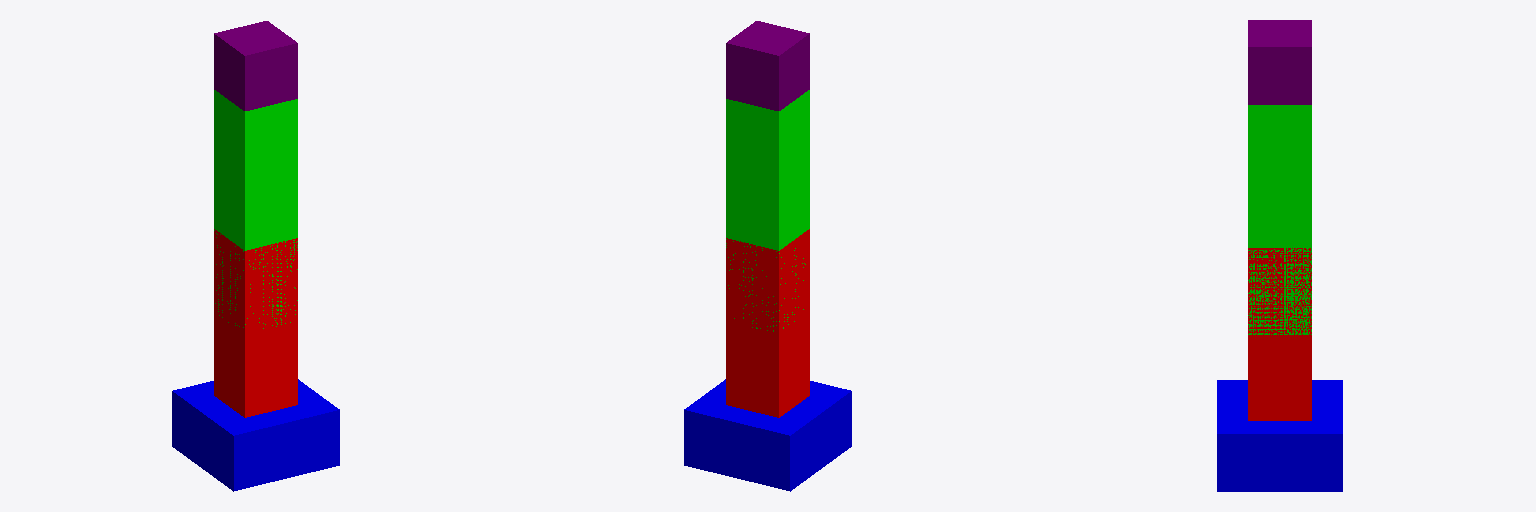
robot.urdf — 3_dof_manipulator:
<?xml version="1.0"?>
<robot name="3_dof_manipulator">

  <material name="blue"><color rgba="0 0 1 1"/></material>
  <material name="red"><color rgba="1 0 0 1"/></material>
  <material name="green"><color rgba="0 1 0 1"/></material>
  <material name="purple"><color rgba="0.5 0 0.5 1"/></material>

  <link name="base_link">
    <visual>
      <geometry><box size="0.1 0.1 0.05"/></geometry>
      <material name="blue"/>
    </visual>
    <collision>
      <geometry><box size="0.1 0.1 0.05"/></geometry>
    </collision>
    <inertial>
      <mass value="0.5"/>
      <origin xyz="0 0 0"/>
      <inertia ixx="0.0004" ixy="0.0" ixz="0.0" iyy="0.0004" iyz="0.0" izz="0.0004"/>
    </inertial>
  </link>

  <link name="link1">
    <visual>
      <geometry><box size="0.05 0.05 0.2"/></geometry>
      <material name="red"/>
    </visual>
    <collision>
      <geometry><box size="0.05 0.05 0.2"/></geometry>
    </collision>
    <inertial>
      <mass value="0.2"/>
      <origin xyz="0 0 0"/>
      <inertia ixx="0.0002" ixy="0.0" ixz="0.0" iyy="0.0002" iyz="0.0" izz="0.0002"/>
    </inertial>
  </link>

  <link name="link2">
    <visual>
      <geometry><box size="0.05 0.05 0.2"/></geometry>
      <material name="green"/>
    </visual>
    <collision>
      <geometry><box size="0.05 0.05 0.2"/></geometry>
    </collision>
    <inertial>
      <mass value="0.2"/>
      <origin xyz="0 0 0"/>
      <inertia ixx="0.0002" ixy="0.0" ixz="0.0" iyy="0.0002" iyz="0.0" izz="0.0002"/>
    </inertial>
  </link>

  <link name="end_effector">
    <visual>
      <geometry><box size="0.05 0.05 0.05"/></geometry>
      <material name="purple"/>
    </visual>
    <collision>
      <geometry><box size="0.05 0.05 0.05"/></geometry>
    </collision>
    <inertial>
      <mass value="0.1"/>
      <origin xyz="0 0 0"/>
      <inertia ixx="0.00005" ixy="0.0" ixz="0.0" iyy="0.00005" iyz="0.0" izz="0.00005"/>
    </inertial>
  </link>

  <joint name="joint1" type="revolute">
    <parent link="base_link"/>
    <child link="link1"/>
    <origin xyz="0 0 0.075" rpy="0 0 0"/>
    <axis xyz="0 0 1"/>
    <limit lower="-1.57" upper="1.57" effort="10" velocity="0.5"/>
  </joint>

  <joint name="joint2" type="revolute">
    <parent link="link1"/>
    <child link="link2"/>
    <origin xyz="0 0 0.125" rpy="0 0 0"/>
    <axis xyz="0 1 0"/>
    <limit lower="-1.57" upper="1.57" effort="10" velocity="0.5"/>
  </joint>

  <joint name="joint3" type="revolute">
    <parent link="link2"/>
    <child link="end_effector"/>
    <origin xyz="0 0 0.125" rpy="0 0 0"/>
    <axis xyz="0 1 0"/>
    <limit lower="-1.57" upper="1.57" effort="10" velocity="0.5"/>
  </joint>

  <transmission name="joint1_transmission">
    <type>transmission_interface/SimpleTransmission</type>
    <joint name="joint1">
      <hardwareInterface>hardware_interface/PositionJointInterface</hardwareInterface>
    </joint>
    <actuator name="joint1_motor">
      <mechanicalReduction>1</mechanicalReduction>
    </actuator>
  </transmission>

  <transmission name="joint2_transmission">
    <type>transmission_interface/SimpleTransmission</type>
    <joint name="joint2">
      <hardwareInterface>hardware_interface/PositionJointInterface</hardwareInterface>
    </joint>
    <actuator name="joint2_motor">
      <mechanicalReduction>1</mechanicalReduction>
    </actuator>
  </transmission>

  <transmission name="joint3_transmission">
    <type>transmission_interface/SimpleTransmission</type>
    <joint name="joint3">
      <hardwareInterface>hardware_interface/PositionJointInterface</hardwareInterface>
    </joint>
    <actuator name="joint3_motor">
      <mechanicalReduction>1</mechanicalReduction>
    </actuator>
  </transmission>

</robot>

--- Facts derived from the render (not from the file) ---
Views: 3 orthographic renders of the robot side by side, from view 1: azimuth 30°, elevation 25°; view 2: azimuth 150°, elevation 25°; view 3: azimuth 270°, elevation 25°.
Robot: 3_dof_manipulator — 4 links, 3 joints (3 revolute); root link base_link; default pose: all joints at 0.
Visible links, largest first — view 1: link1, base_link, link2, end_effector; view 2: link1, base_link, link2, end_effector; view 3: base_link, link2, link1, end_effector.
Boxes of the visible links, bbox=[...] form: link1: bbox=[214, 229, 297, 417]; base_link: bbox=[172, 379, 339, 491]; link2: bbox=[214, 90, 297, 328]; end_effector: bbox=[214, 21, 297, 110]; link1: bbox=[726, 229, 809, 417]; base_link: bbox=[684, 379, 851, 491]; link2: bbox=[726, 90, 809, 331]; end_effector: bbox=[726, 21, 809, 110]; base_link: bbox=[1217, 380, 1342, 491]; link2: bbox=[1248, 105, 1311, 334]; link1: bbox=[1248, 248, 1311, 420]; end_effector: bbox=[1248, 20, 1311, 104].
Bounding box of the posed robot: 0.1 × 0.1 × 0.375 m (x, y, z).
Geometry: primitives only (box / cylinder / sphere), no mesh files.
